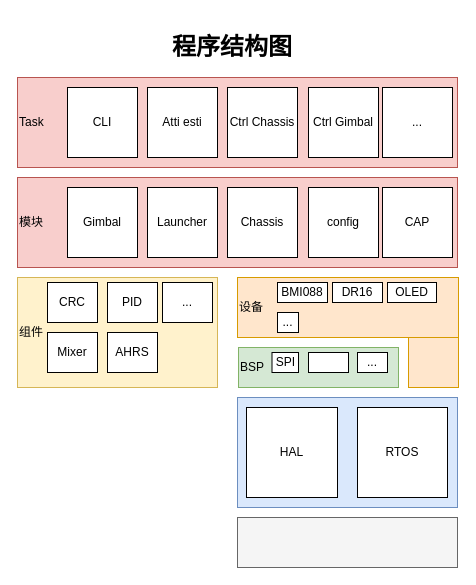
Some shapes in this 476 by 585 pixel diagram are drawn without their labels. The shapes that lost their labels are listed below. From the top down, each one's centre as x and y in pixels, then its label:
At (x=328, y=362): "GPIO".
At (x=347, y=542): "硬件".
